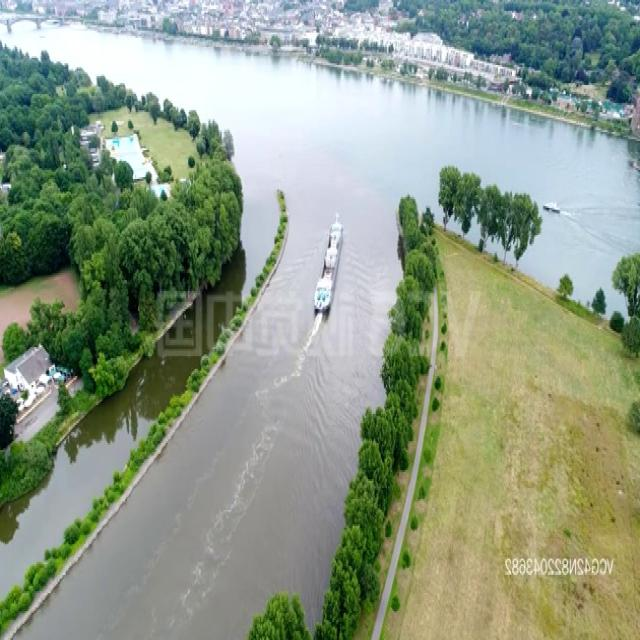cargoship: (312, 208, 346, 312)
houseboat: (543, 198, 562, 215)
